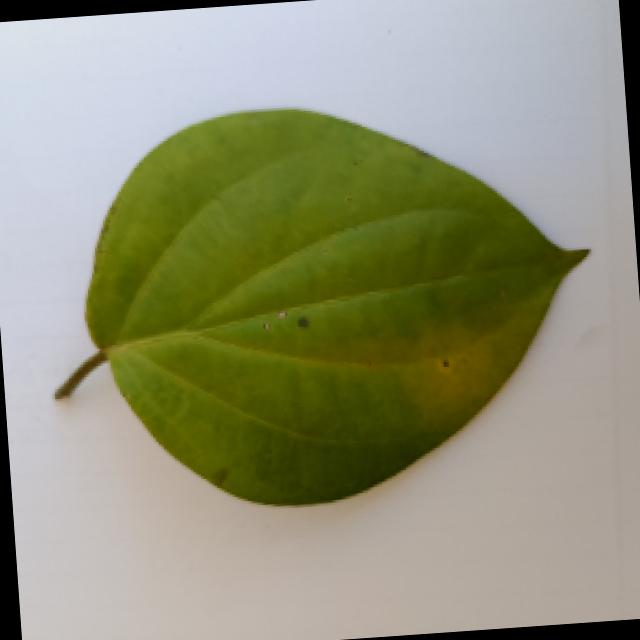slow-decline: (28, 86, 605, 532)
